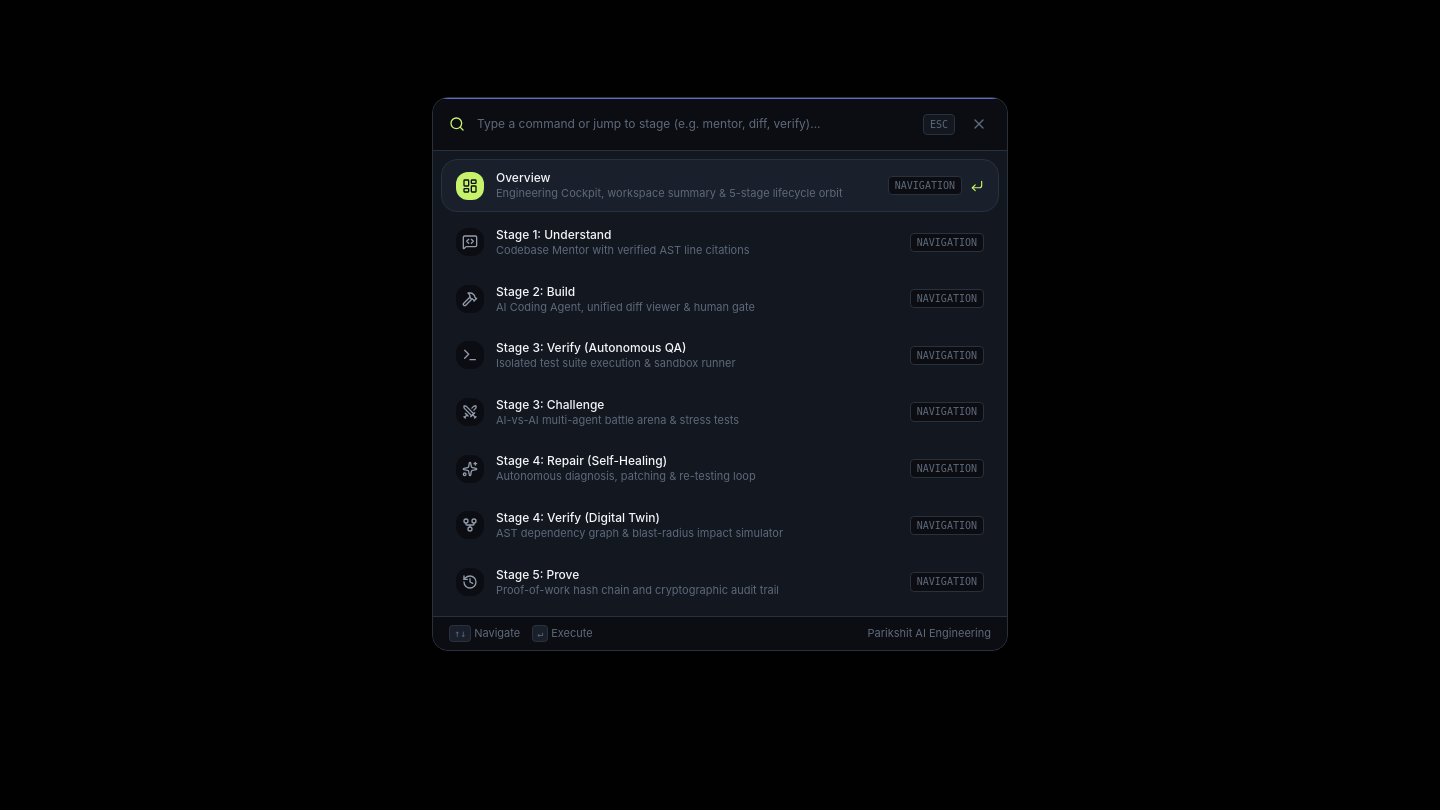
Test: CommandPalette Component Keyboard Flow › filters command options based on user query
The width and height of the screenshot is (1440, 810).
Replace the text in the field with test id "command-palette-input" with "mentor" at (694, 124), box top-left (477, 116), bottom-right (911, 132)
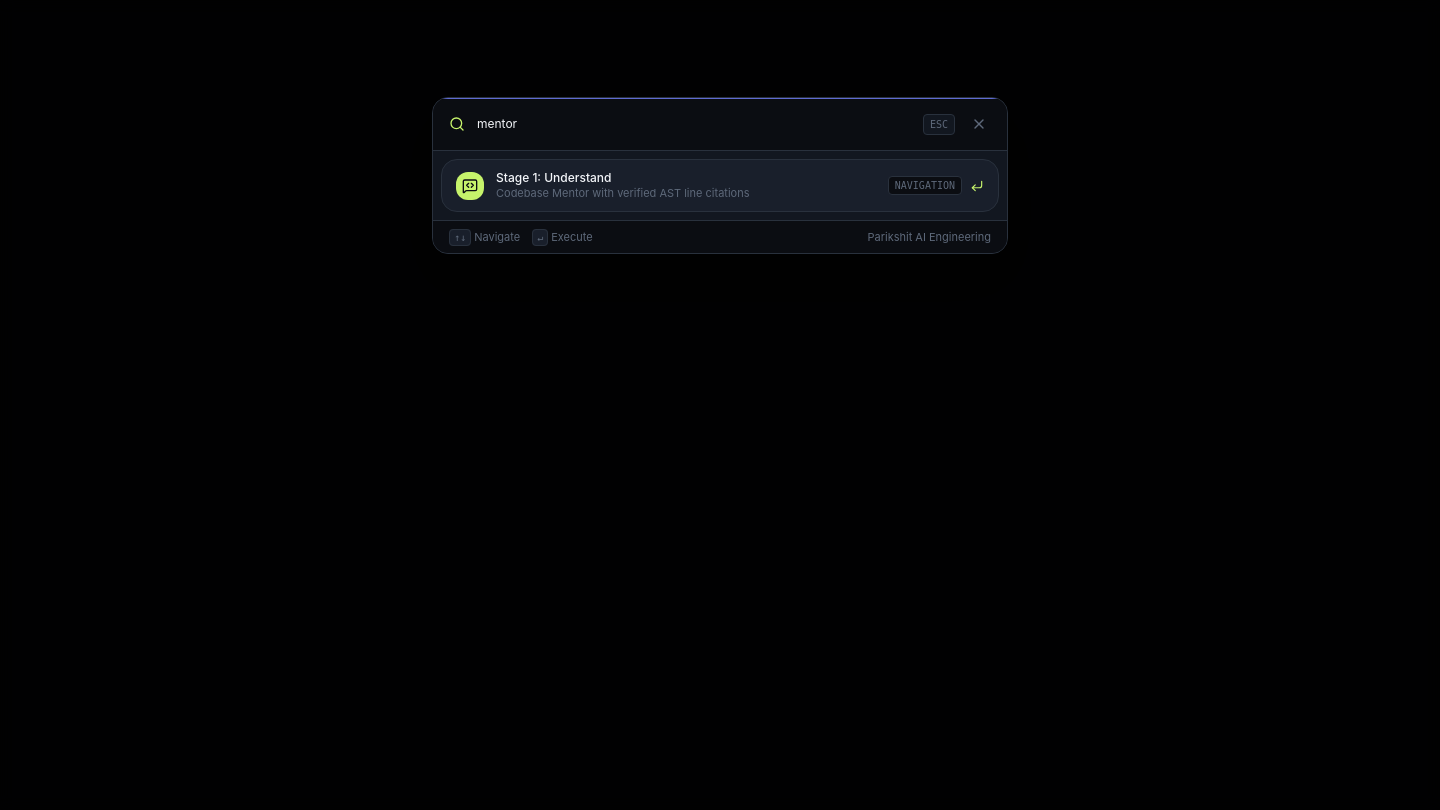
Check: the text "Stage 1: Understand" is shown, box top-left (496, 170), bottom-right (612, 185)
Check: the button "Stage 3: Challenge" is gone
